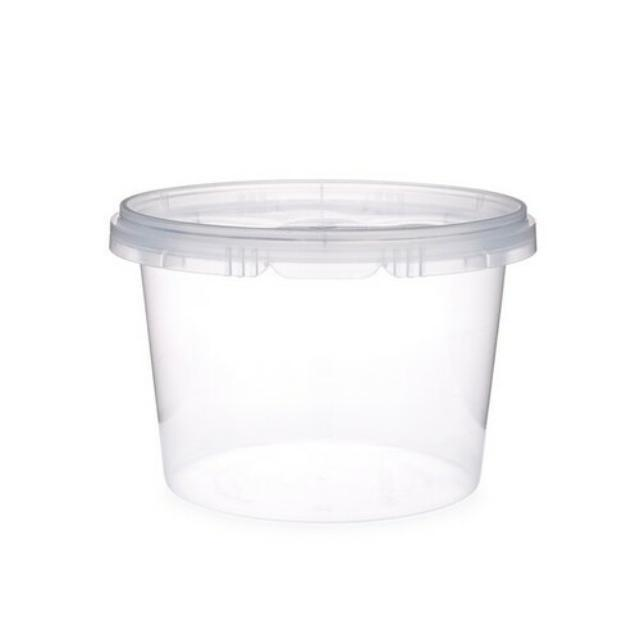plastic: (111, 179, 535, 520)
